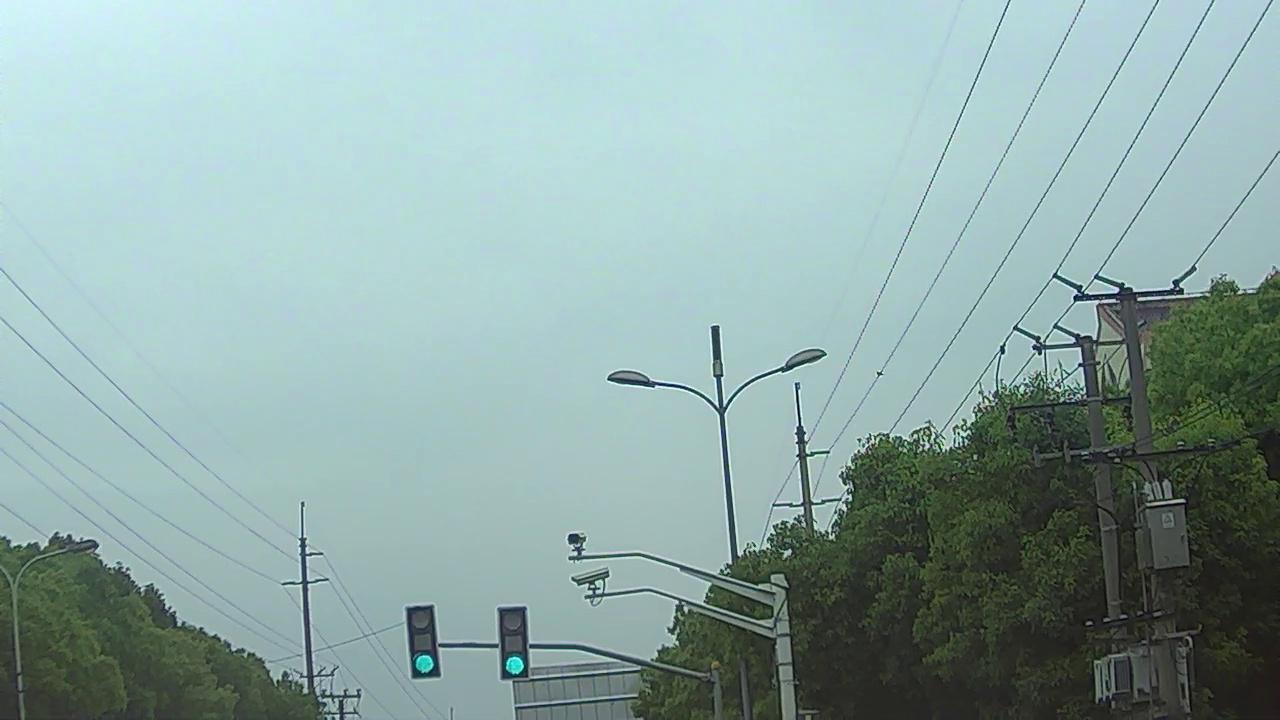traffic_light: (499, 605, 530, 679), (410, 608, 438, 675)
